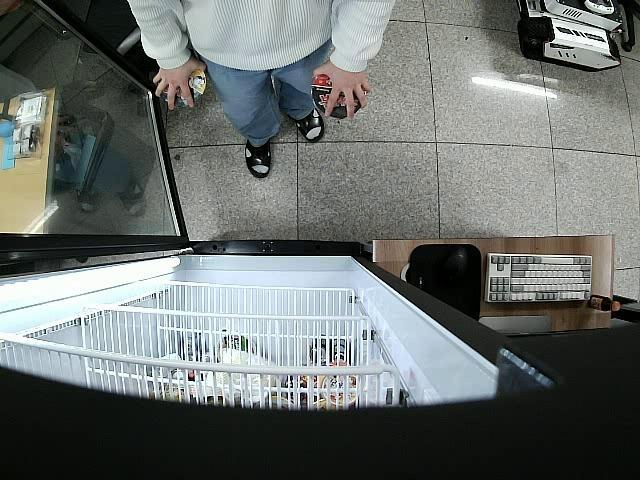07_buldak_L: (310, 72, 366, 117), (161, 60, 208, 107)
